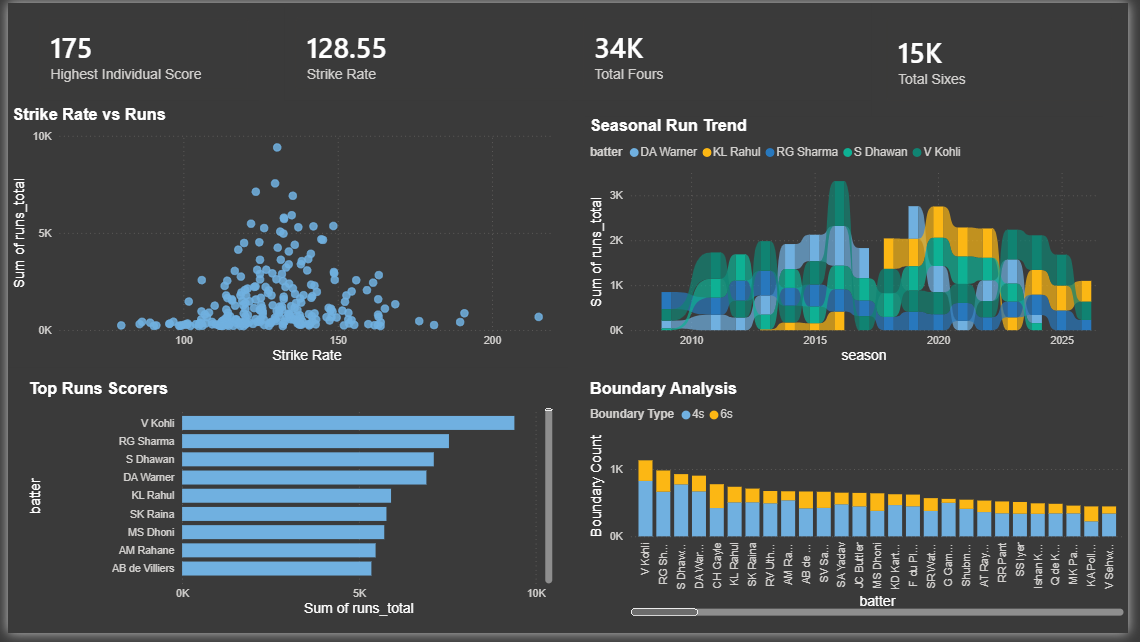

Layout of this report page (visuals, bound fields, positions):
{"tool":"powerbi","page":{"name":"Batting Analysis","canvas":[1280,720],"ordinal":2},"visuals":[{"type":"clusteredBarChart","title":"Top Runs Scorers","fields":{"Y":["Sum(IPL_Cleaned.runs_total)"],"Category":["IPL_Cleaned.batter"]},"box":[18.5,430.5,608.6,275.1],"z":0},{"type":"scatterChart","title":"Strike Rate vs Runs","fields":{"X":["IPL_Cleaned.Strike Rate"],"Y":["Sum(IPL_Cleaned.runs_total)"],"Category":["IPL_Cleaned.batter"]},"box":[0,116.9,640,299.3],"z":1000},{"type":"ribbonChart","title":"Seasonal Run Trend","fields":{"Category":["IPL_Cleaned.season"],"Series":["IPL_Cleaned.batter"],"Y":["Sum(IPL_Cleaned.runs_total)"]},"box":[660,129.7,591.5,286.5],"z":2000},{"type":"columnChart","title":"Boundary Analysis","fields":{"Category":["IPL_Cleaned.batter"],"Y":["IPL_Cleaned.Boundary Count"],"Series":["IPL_Cleaned.Boundary Type"]},"box":[660,430.5,620,275.1],"z":3000},{"type":"cardVisual","fields":{"Data":["IPL_Cleaned.Strike Rate"]},"box":[310.7,0,372,116.9],"z":4000},{"type":"cardVisual","fields":{"Data":["IPL_Cleaned.Highest Individual Score"]},"box":[18.5,0,273.7,116.9],"z":5000},{"type":"cardVisual","fields":{"Data":["IPL_Cleaned.Total Fours"]},"box":[640,0,444.7,116.9],"z":6000},{"type":"cardVisual","fields":{"Data":["IPL_Cleaned.Total Sixes"]},"box":[987.8,0,292.2,129.7],"z":7000}]}

Visuals, with their boxes in screenshot pixels (x1, y1, x2, y2), scaled from the page's 1280x720 canvas onto the 1140x642 screenshot:
"Top Runs Scorers" clusteredBarChart: box=[16, 384, 559, 629]
"Strike Rate vs Runs" scatterChart: box=[0, 104, 570, 371]
"Seasonal Run Trend" ribbonChart: box=[588, 116, 1115, 371]
"Boundary Analysis" columnChart: box=[588, 384, 1139, 629]
cardVisual - IPL_Cleaned.Strike Rate: box=[277, 0, 608, 104]
cardVisual - IPL_Cleaned.Highest Individual Score: box=[16, 0, 260, 104]
cardVisual - IPL_Cleaned.Total Fours: box=[570, 0, 966, 104]
cardVisual - IPL_Cleaned.Total Sixes: box=[880, 0, 1139, 116]
